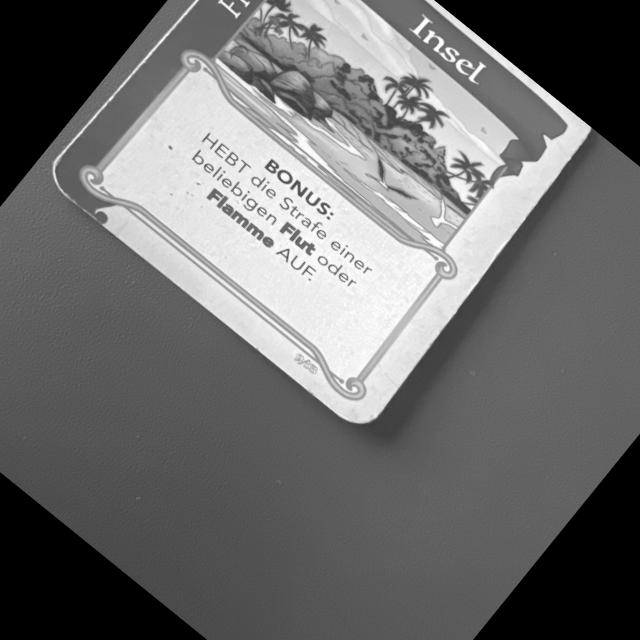Island: (43, 0, 595, 438)
